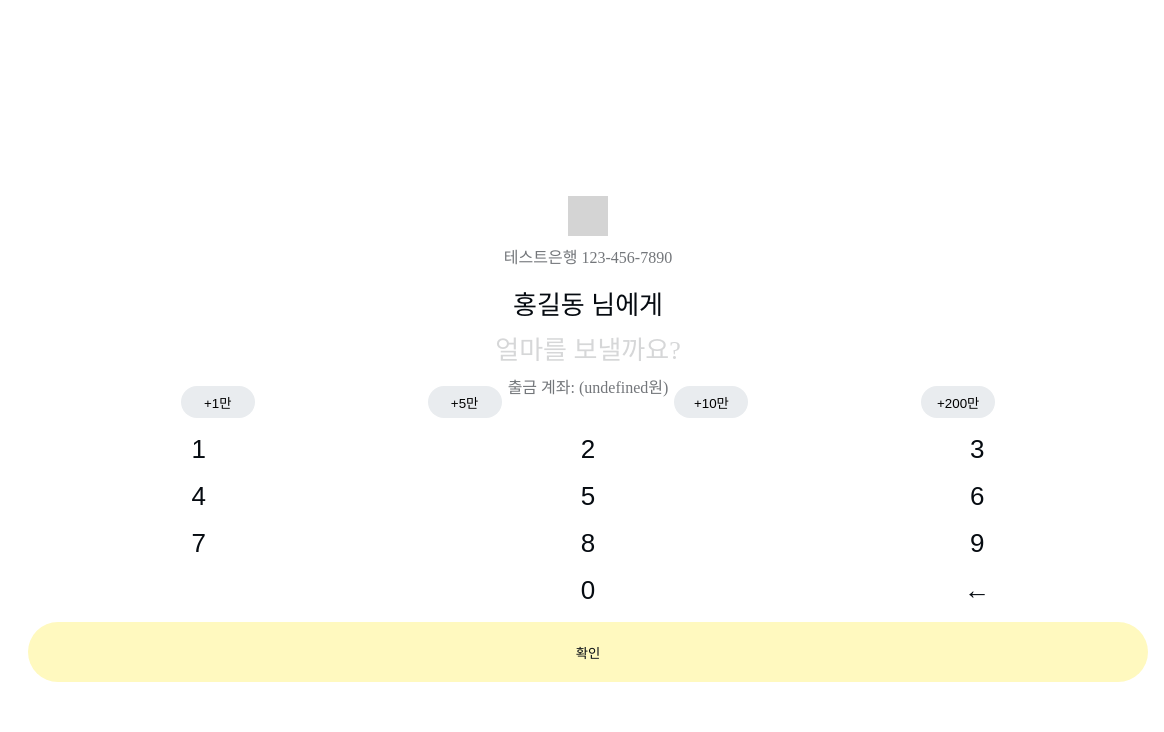
Test: Transfer › 금액칩(예: +1만) 클릭 시 금액이 더해진다
Click the button "+1만" at (218, 402), box [181, 386, 255, 418]
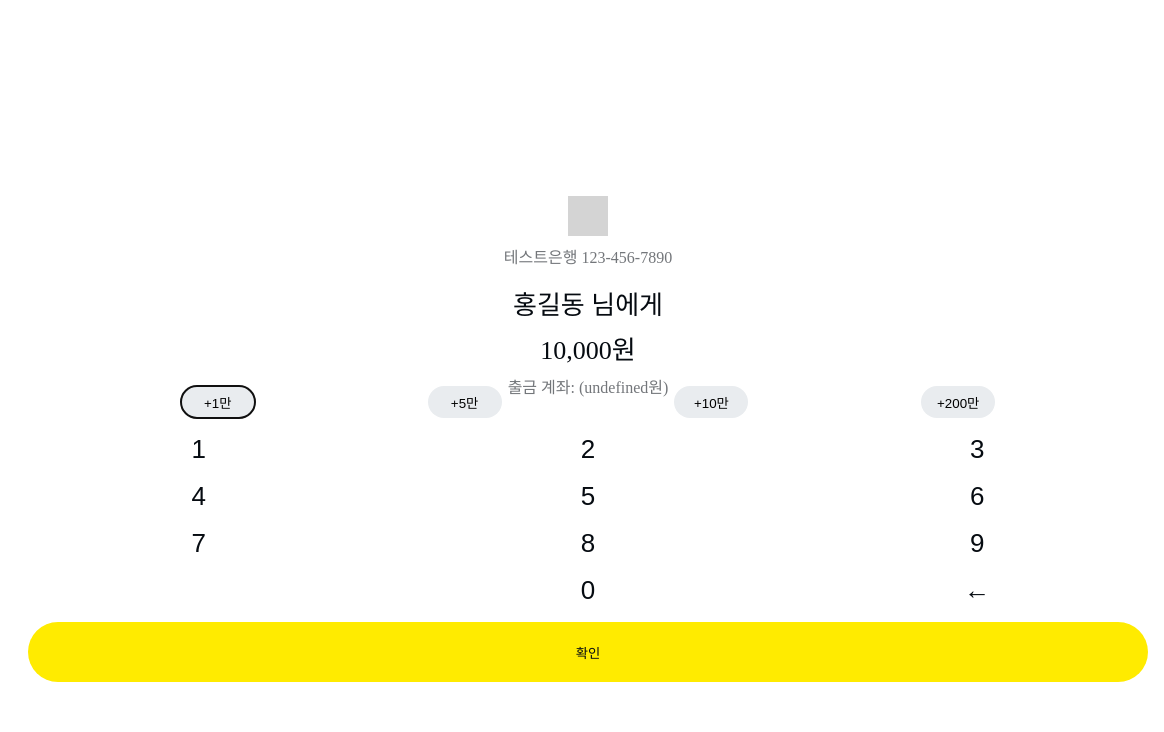
expect the text "10,000원" is shown: met, box [540, 336, 636, 365]
Click the button "+5만" at (465, 402), box [428, 386, 502, 418]
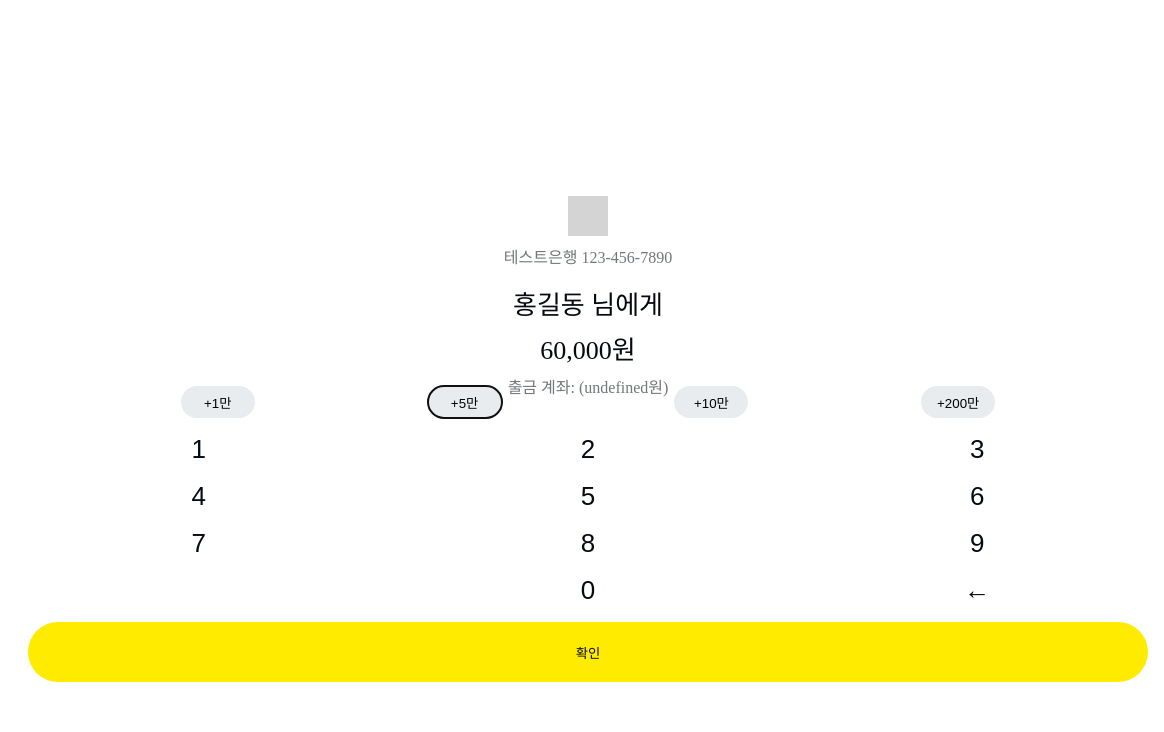
expect the text "60,000원" is shown: met, box [540, 336, 636, 365]
